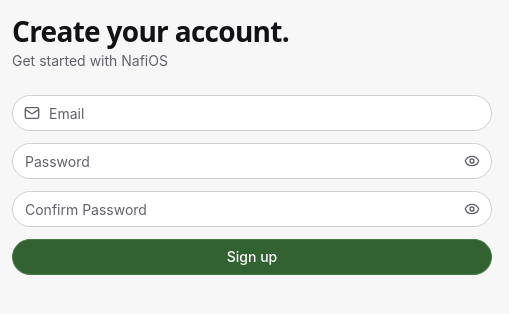
Scenario: SignupForm — validation (submit-gated) › flags mismatched passwords
Type "new@nafios.local" into the field with placeholder "Email" at x=252, y=113, box [12, 95, 492, 131]
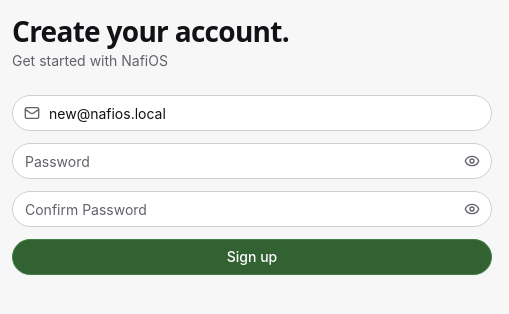
Type "password123" into the password field with placeholder "Password" at x=252, y=161, box [12, 143, 492, 179]
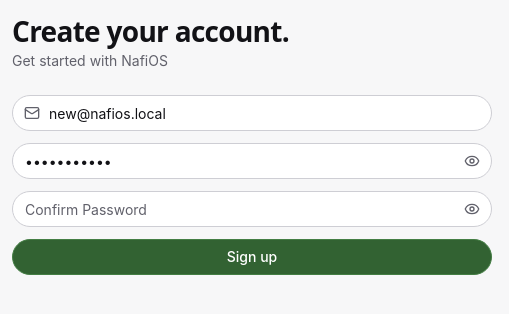
Type "different1" into the password field with placeholder "Confirm Password" at x=252, y=209, box [12, 191, 492, 227]
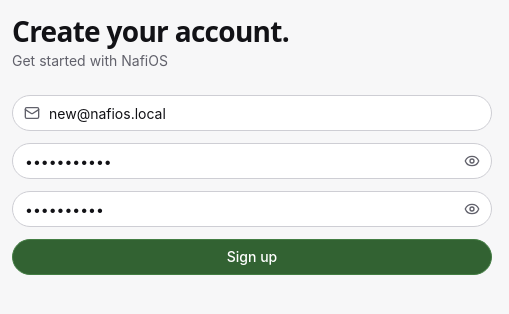
Submit the form, box [12, 95, 492, 275]
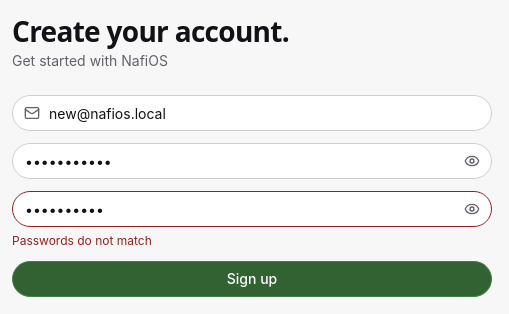
Now the text "Passwords do not match" is shown, box [12, 233, 152, 248]
